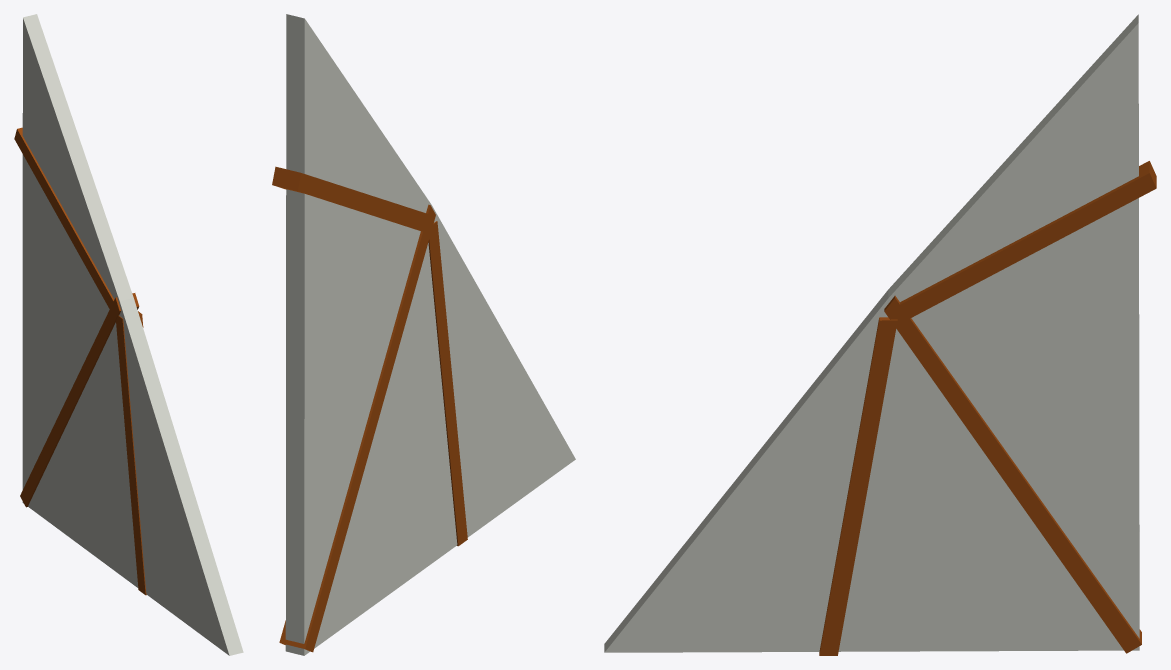
Rendered from DoubleHeightRoofWall1.fbx.
The picture shows the model from 3 angles, left to right: view 1: azimuth 30°, elevation 25°; view 2: azimuth 150°, elevation 25°; view 3: azimuth 270°, elevation 25°; orthographic projection. The views are drawn at different scales.
Visible parts, largest first — view 1: DoubleHeightWall1; view 2: DoubleHeightWall1; view 3: DoubleHeightWall1.
Boxes of the visible parts, x1,y1,x2,y2 form: DoubleHeightWall1: (14,14,243,655); DoubleHeightWall1: (272,14,575,655); DoubleHeightWall1: (604,14,1156,655).
Size of the model in its own units: 110 by 2480 by 1970.
